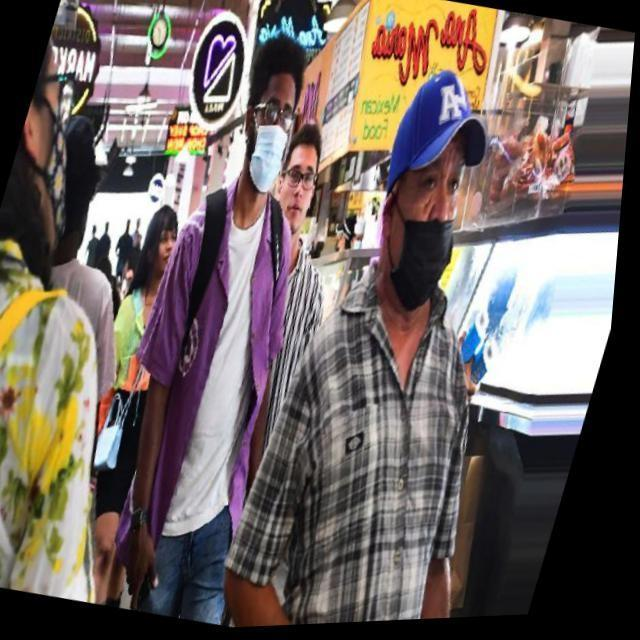hairnet: (378, 172, 476, 320)
